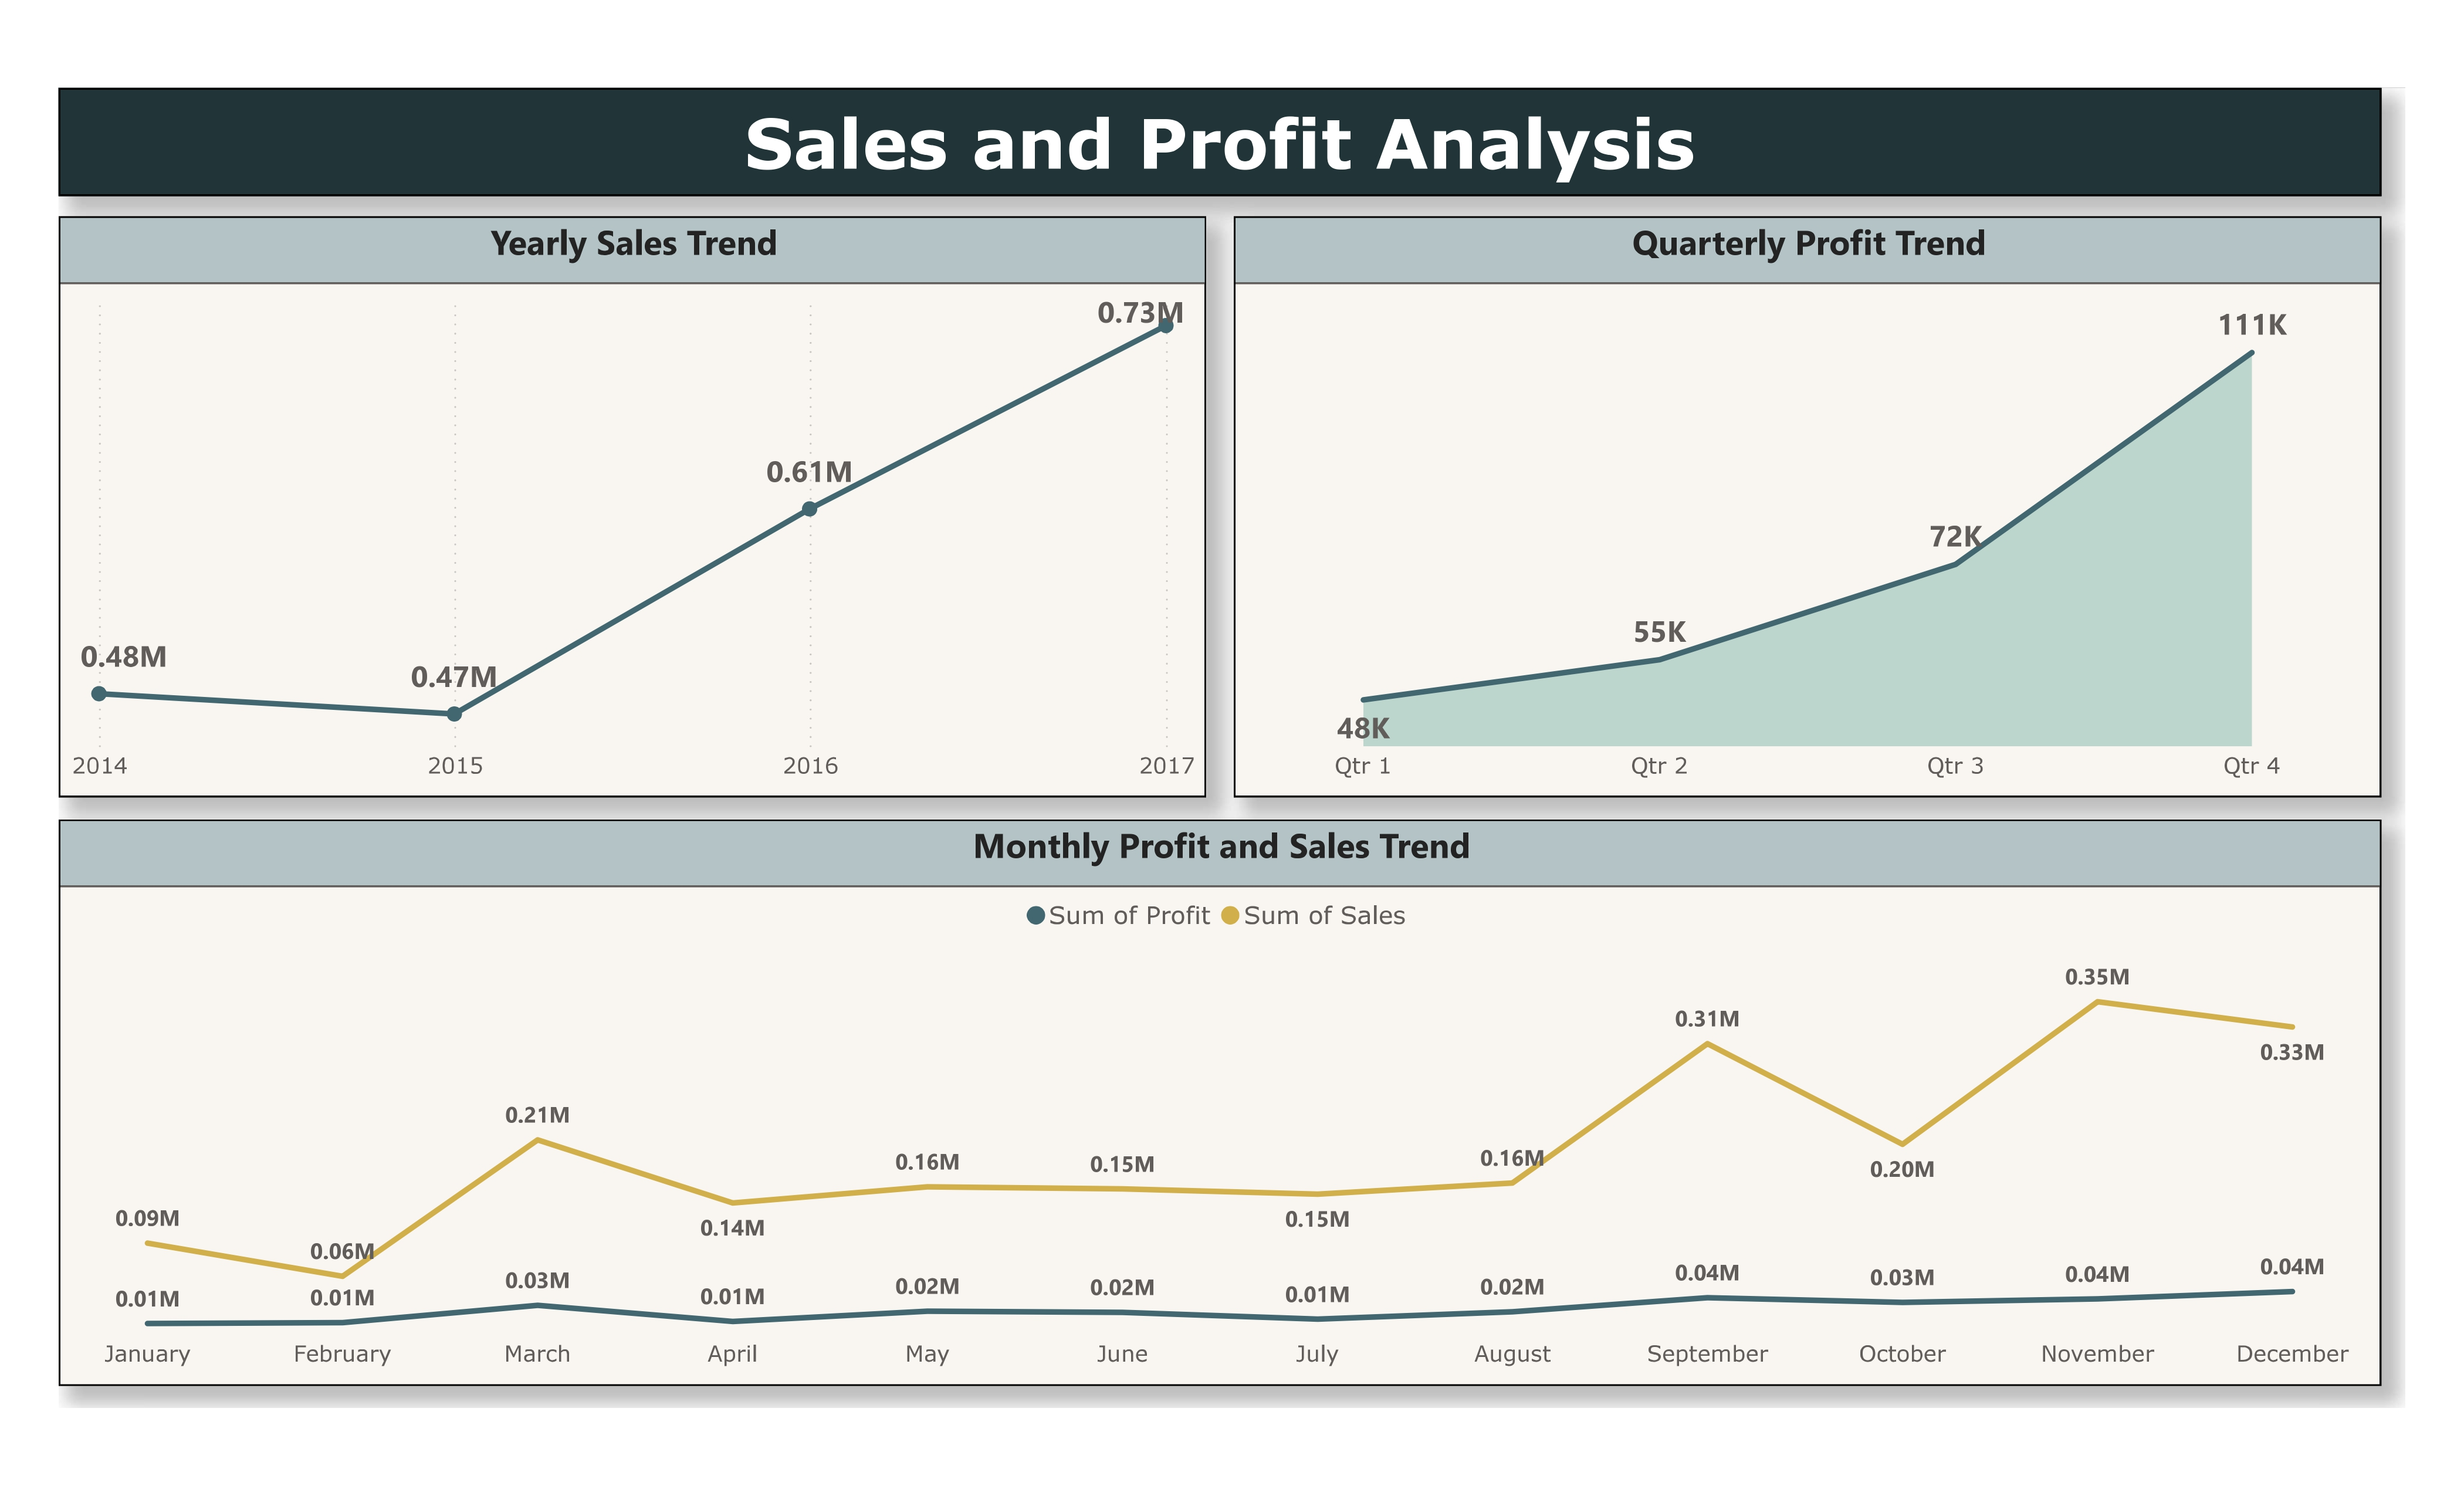

Layout of this report page (visuals, bound fields, positions):
{"tool":"powerbi","page":{"name":"Sales and Profit Analysis","canvas":[1280,720],"ordinal":0},"visuals":[{"type":"textbox","box":[0,0,1267.2,59],"z":0},{"type":"lineChart","title":"Yearly Sales Trend","fields":{"Category":["Orders.Order Date.Variation.Date Hierarchy.Year"],"Y":["Sum(Orders.Sales)"]},"box":[0,69.9,626.2,317.2],"z":1000},{"type":"areaChart","title":"Quarterly Profit Trend","fields":{"Category":["Orders.Order Date.Variation.Date Hierarchy.Quarter"],"Y":["Sum(Orders.Profit)"]},"box":[640.9,69.9,626.2,317.2],"z":2000},{"type":"lineChart","title":"Monthly Profit and Sales Trend","fields":{"Category":["Orders.Order Date.Variation.Date Hierarchy.Month"],"Y":["Sum(Orders.Profit)","Sum(Orders.Sales)"]},"box":[0,398.5,1267.1,309],"z":3000}]}

Visuals, with their boxes in screenshot pixels (x1, y1, x2, y2):
textbox: [x1=52, y1=77, x2=2372, y2=185]
"Yearly Sales Trend" lineChart: [x1=52, y1=205, x2=1198, y2=786]
"Quarterly Profit Trend" areaChart: [x1=1225, y1=205, x2=2371, y2=786]
"Monthly Profit and Sales Trend" lineChart: [x1=52, y1=807, x2=2371, y2=1372]
